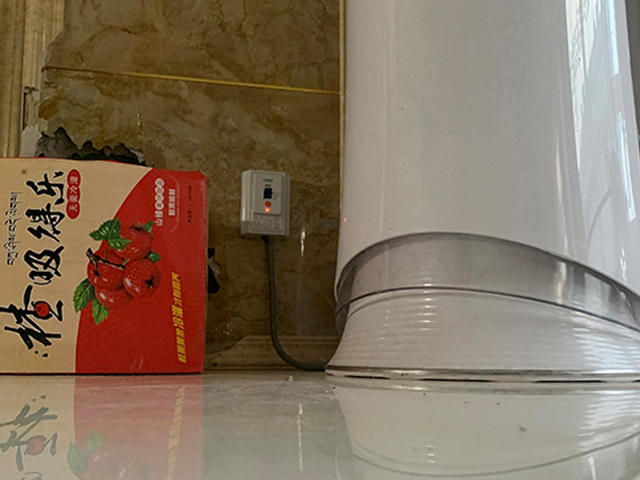wire: (261, 236, 329, 373)
